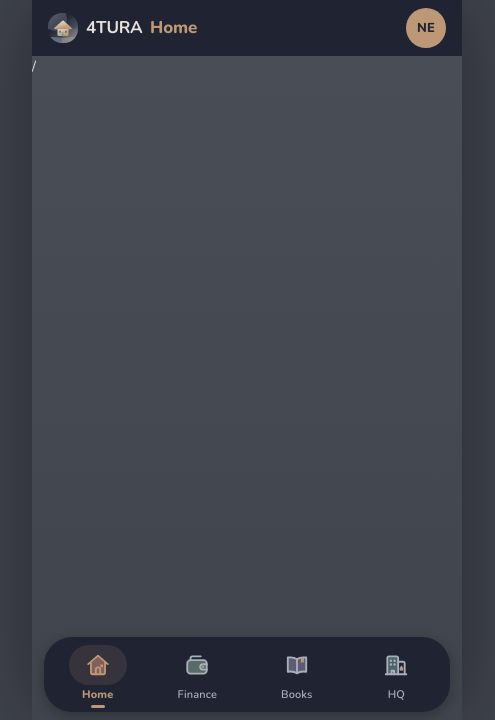
MobileLayout tab bar › sends Finance straight to the Dashboard, with no sheet
Click the button labelled "Finance". click: x=197, y=676
box: [148,645,247,708]
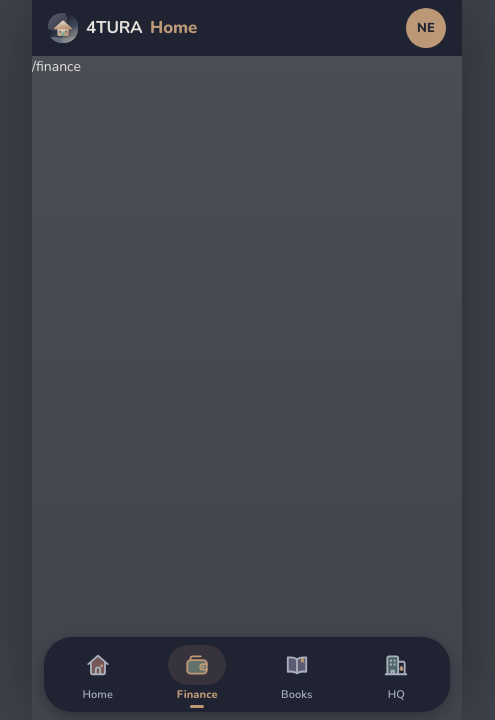
Result: the text with test id "where" reads "/finance" at [32,57,81,76]
